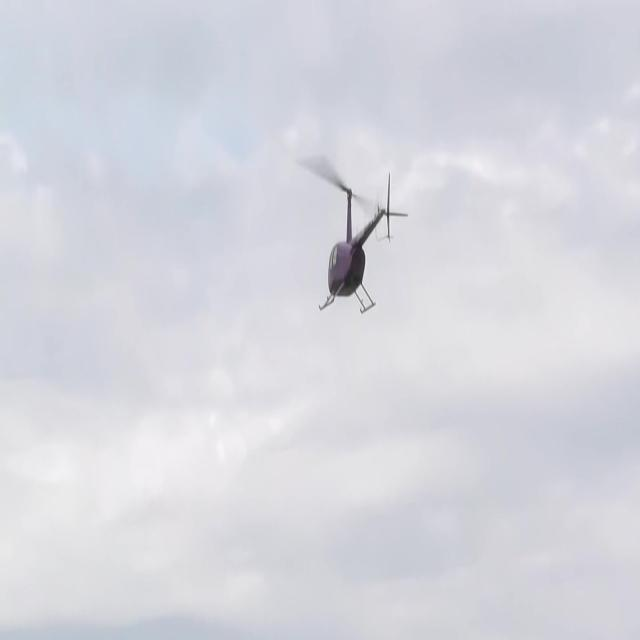CIV_HELO: (317, 171, 409, 315)
